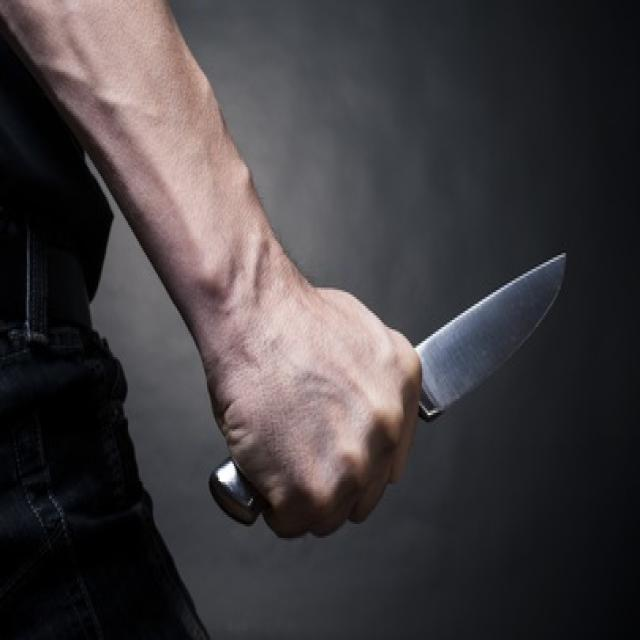knife: (208, 249, 572, 543)
